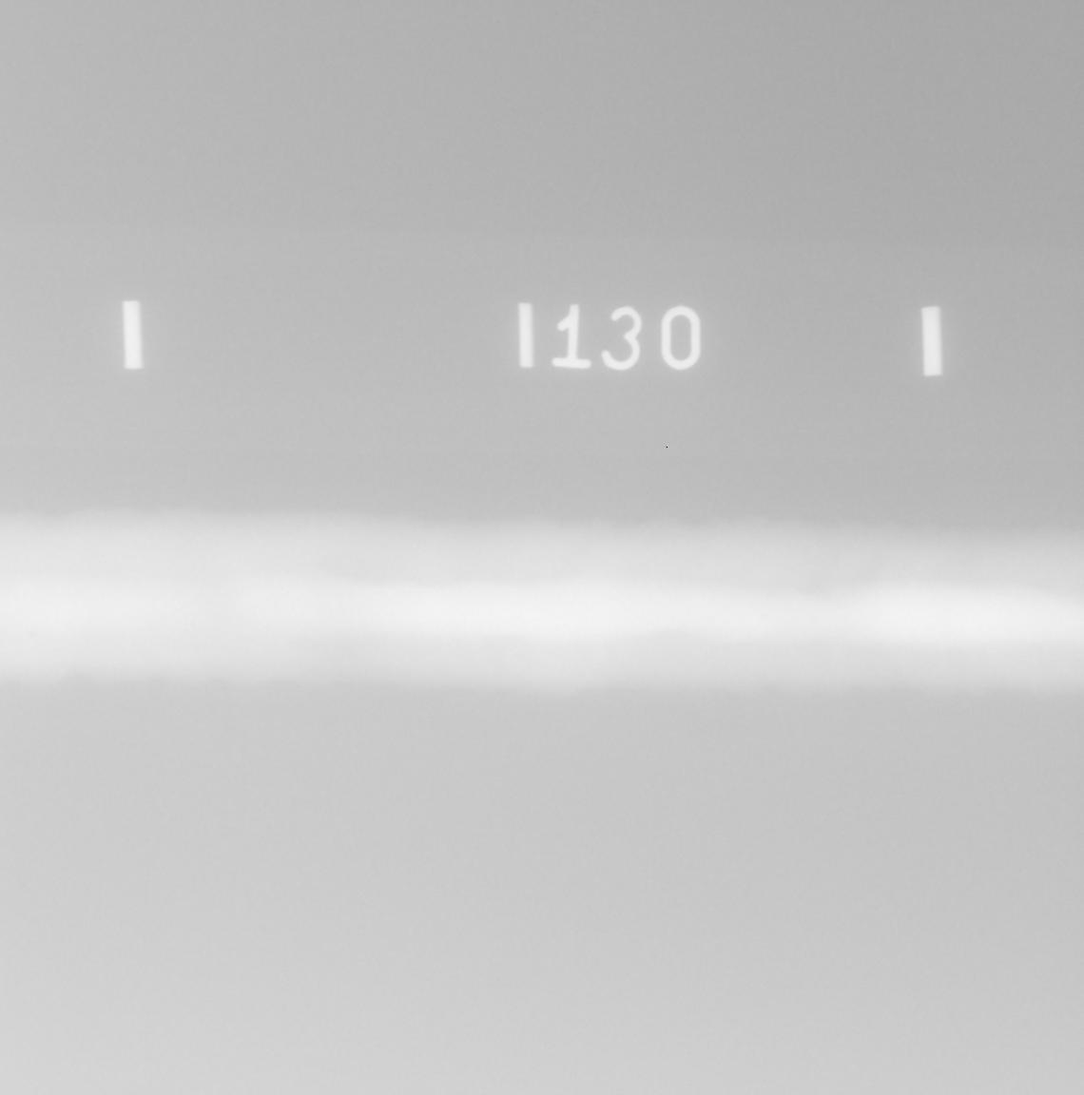Pore/Porosity: (27, 633, 36, 638)
